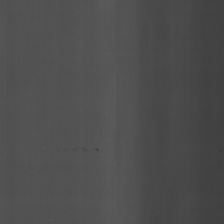inclusion: (80, 145, 89, 153), (94, 144, 99, 157)
